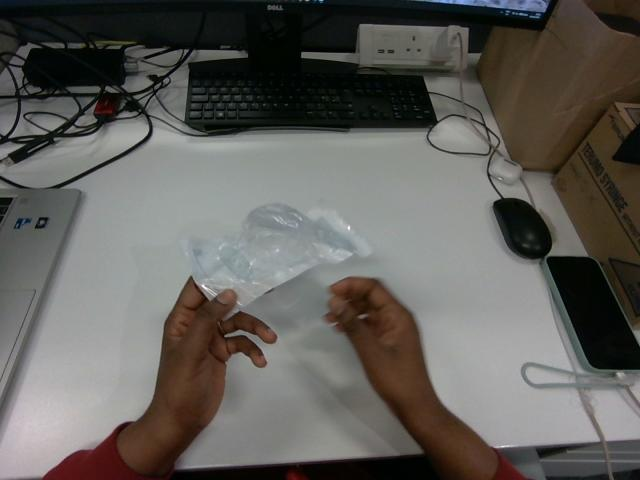gallipot: (181, 204, 371, 308)
